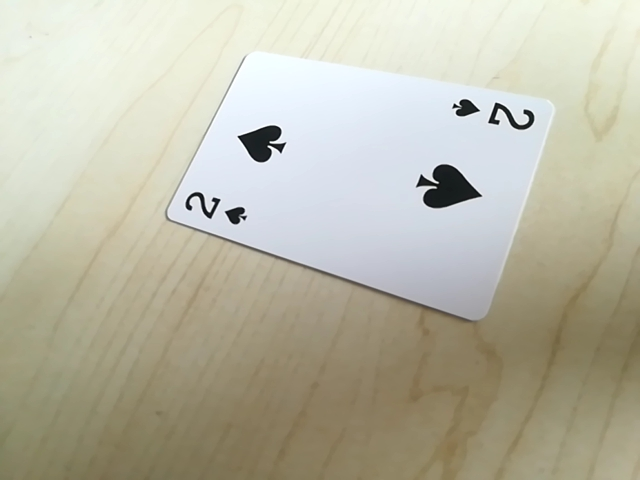ht 2: (448, 92, 542, 134), (174, 188, 256, 231)
